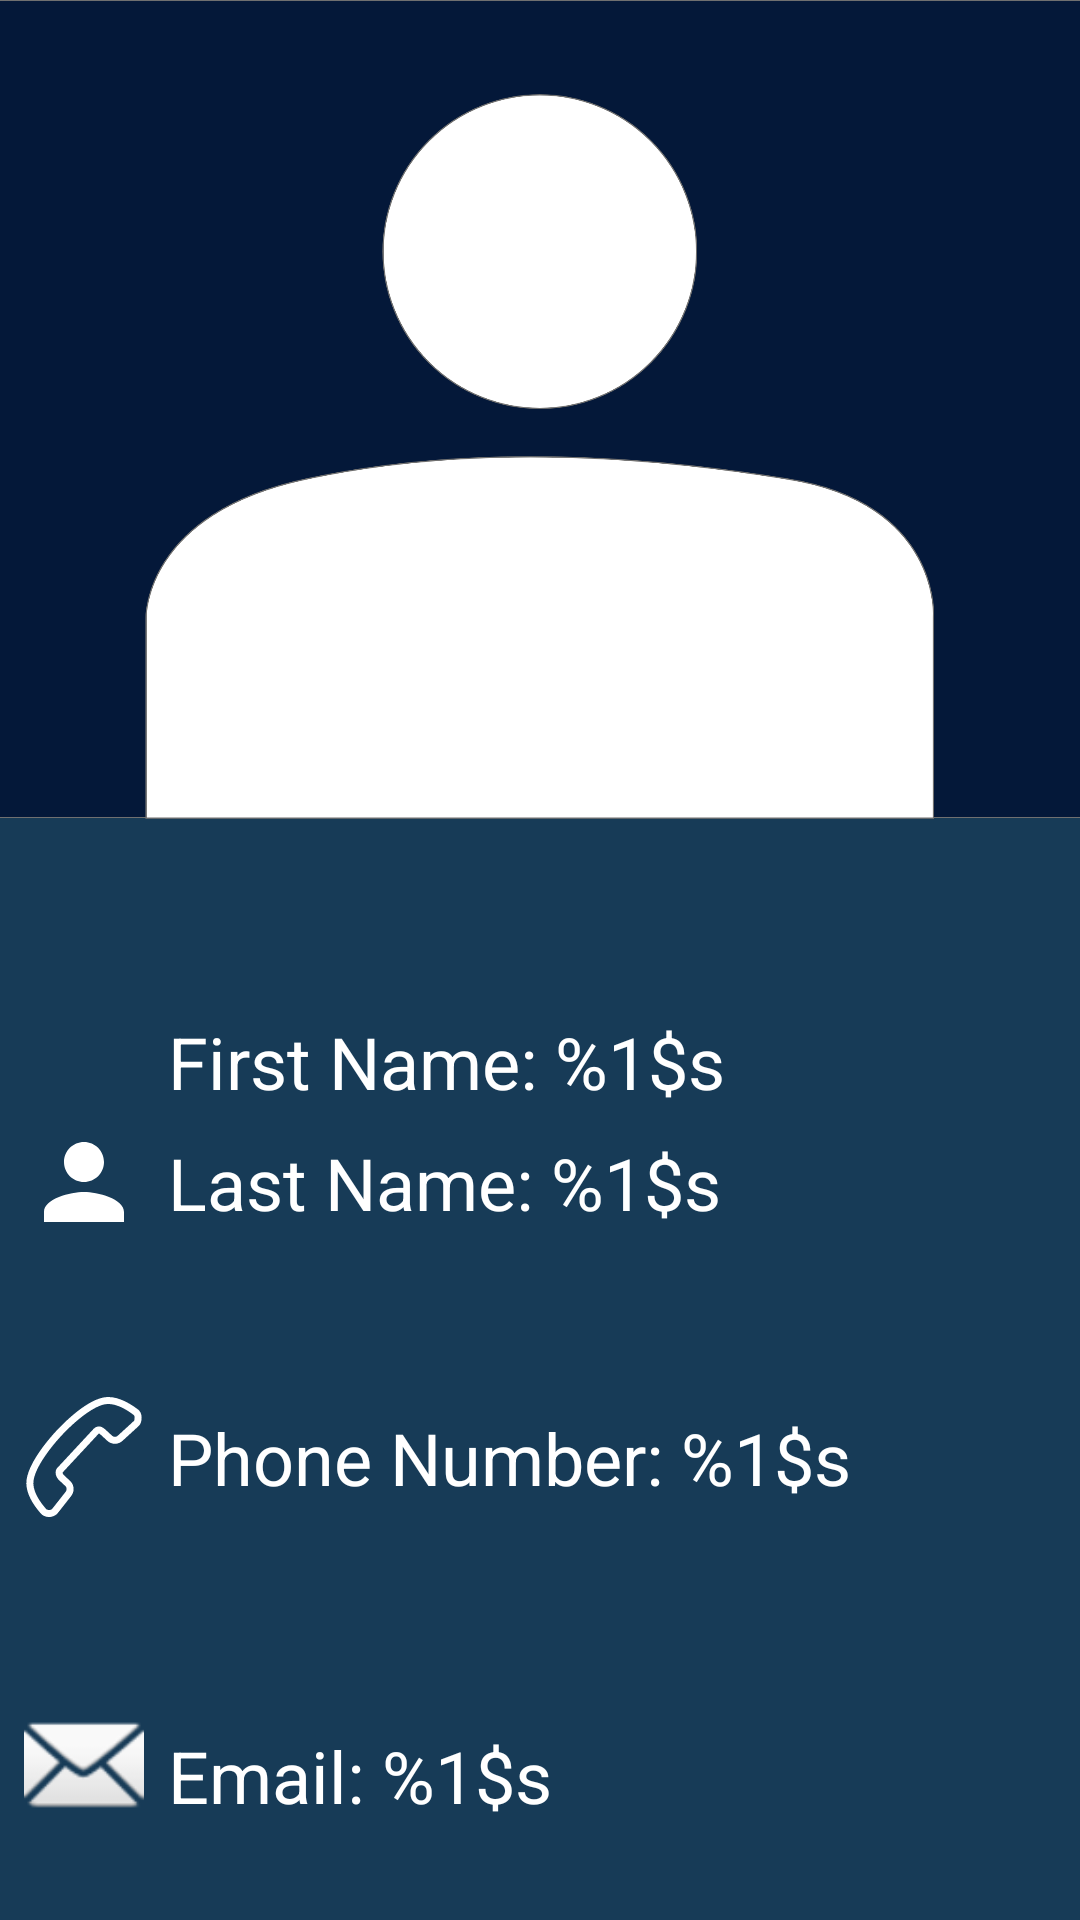

Icons on this 1080w x 1920h Android screen, each with the point to tap as (x,y):
person: (84,1182)
phone numbers call: (84,1457)
